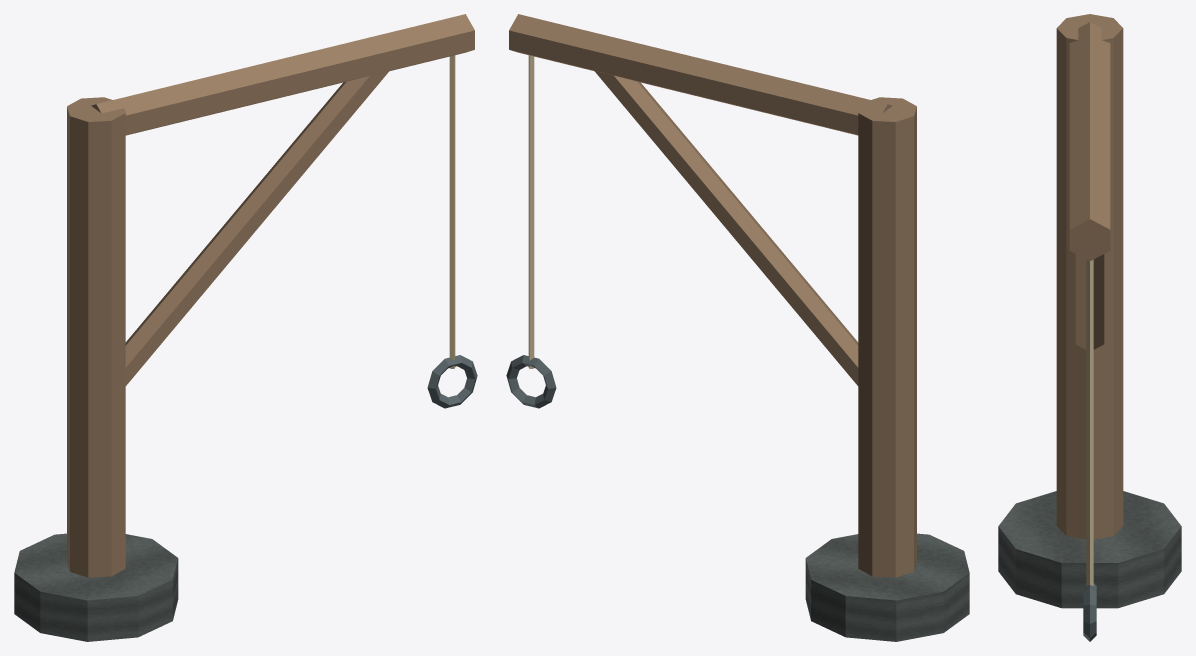
File: hand_crane.glb
The picture shows the model from 3 angles, left to right: view 1: azimuth 30°, elevation 25°; view 2: azimuth 150°, elevation 25°; view 3: azimuth 270°, elevation 25°; orthographic projection. The views are drawn at different scales.
Visible parts, largest first — view 1: Post, Arm, Base, Brace, Cable, Hook; view 2: Post, Arm, Base, Brace, Cable, Hook; view 3: Post, Base, Arm, Cable, Brace, Hook.
Part boxes in pixels (bbox=[...]): Post: bbox=[67, 97, 125, 577]; Arm: bbox=[91, 14, 474, 135]; Base: bbox=[14, 533, 178, 641]; Brace: bbox=[125, 70, 389, 385]; Cable: bbox=[449, 55, 455, 368]; Hook: bbox=[427, 355, 477, 408]; Post: bbox=[858, 97, 916, 577]; Arm: bbox=[509, 14, 892, 135]; Base: bbox=[805, 533, 969, 641]; Brace: bbox=[594, 70, 858, 385]; Cable: bbox=[528, 55, 534, 368]; Hook: bbox=[506, 355, 556, 408]; Post: bbox=[1056, 14, 1123, 539]; Base: bbox=[998, 491, 1181, 608]; Arm: bbox=[1069, 22, 1110, 260]; Cable: bbox=[1086, 259, 1093, 586]; Brace: bbox=[1075, 254, 1104, 349]; Hook: bbox=[1083, 583, 1096, 641].
Bounding box in the file's own units: 3.41 × 3.64 × 1.1.
Materials: 4 (1 with a texture image).
